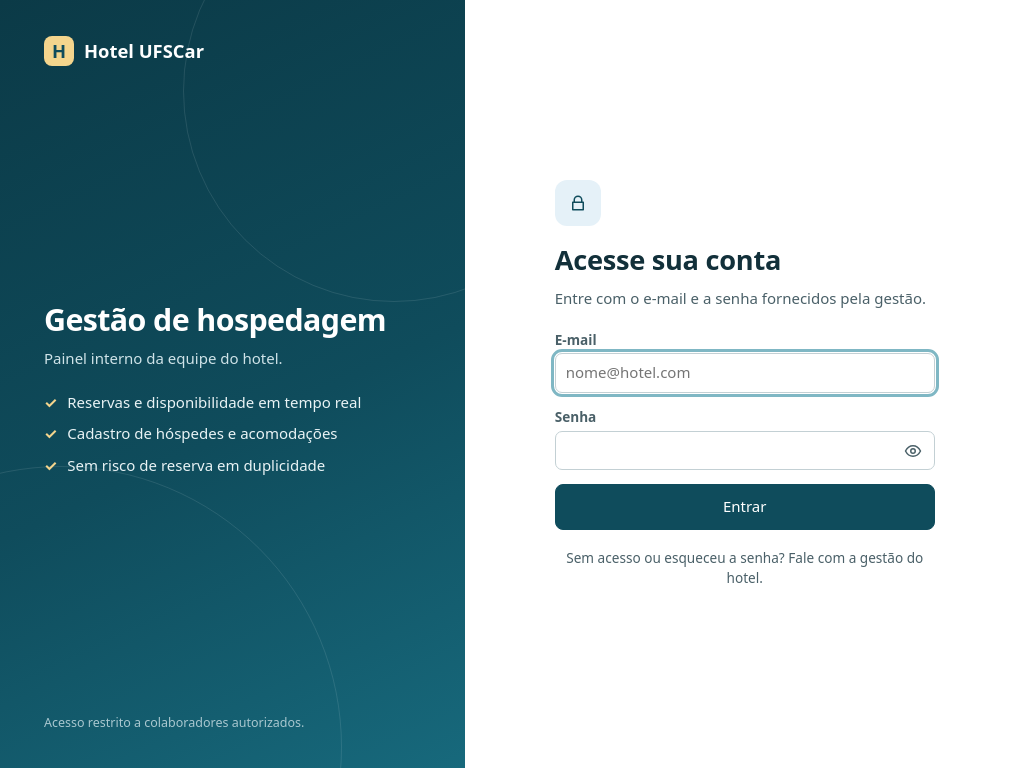
Scenario: Login › mostra erro de credencial
The width and height of the screenshot is (1024, 768).
Type "x@y.z" into the field labelled "E-mail" at (745, 373), box [555,353,935,393]
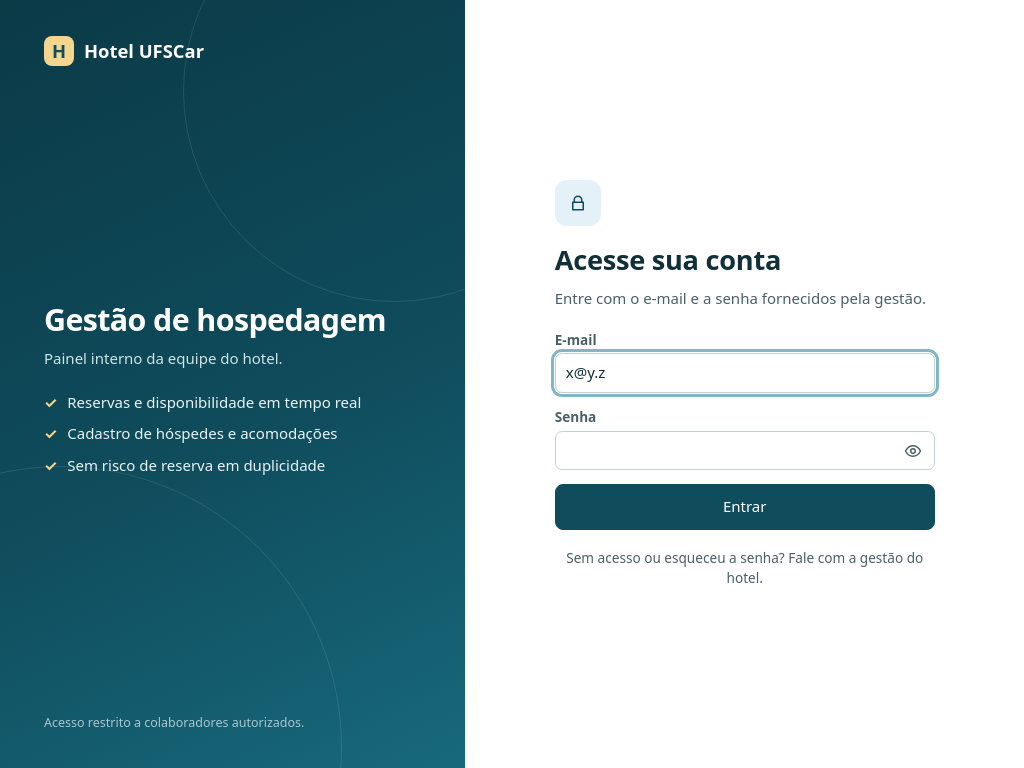
Type "errada" into the password field labelled "Senha" at (745, 451), box [555,431,935,470]
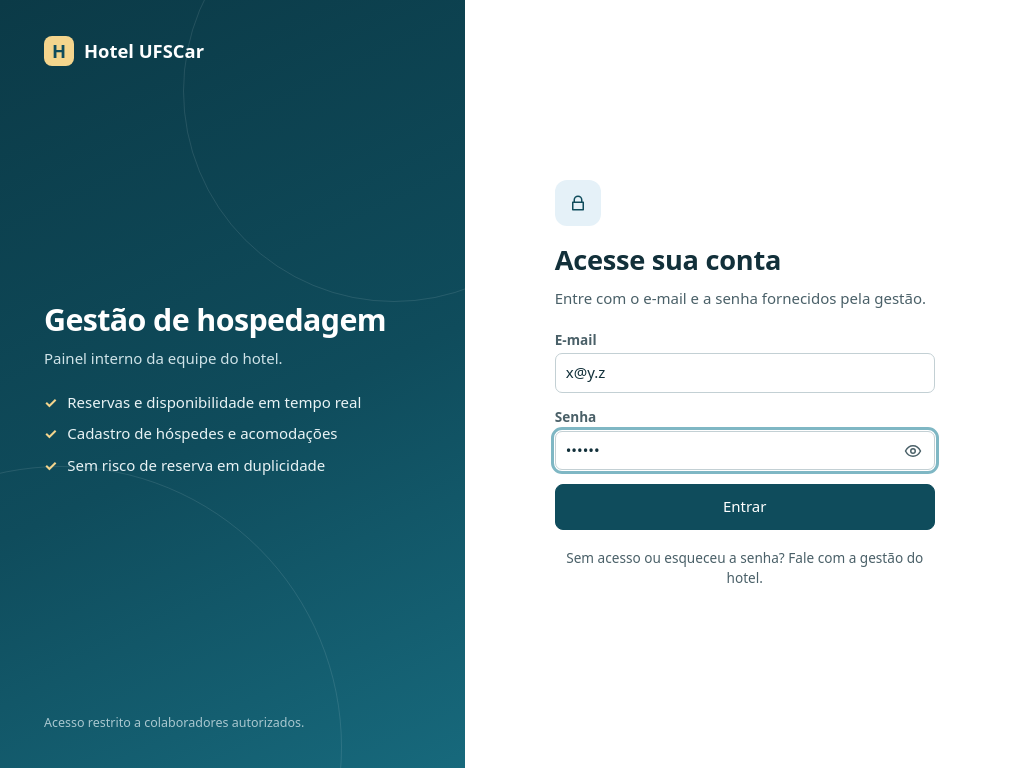
Click the button "Entrar" at (745, 507), box [555,484,935,530]
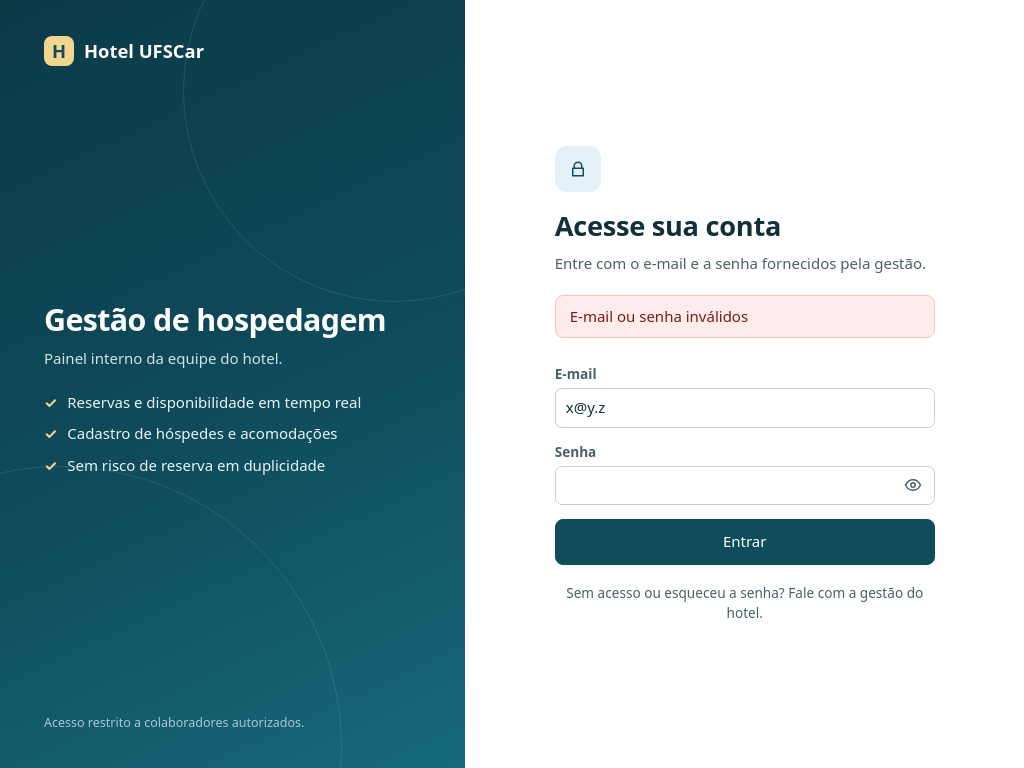
Check: the message reads "E-mail ou senha inválidos", box [570,306,748,326]
